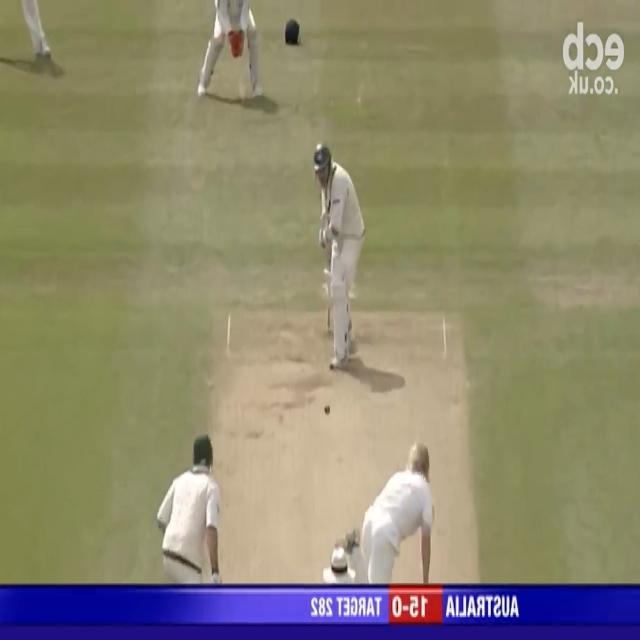ball: (323, 400, 332, 417)
